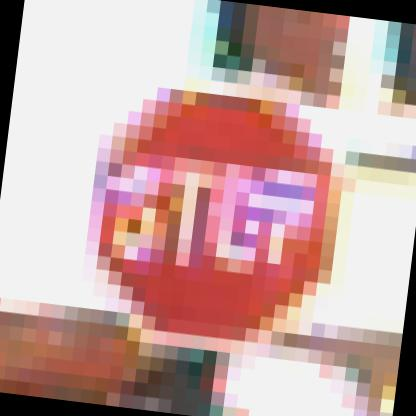stop: (63, 59, 374, 373)
